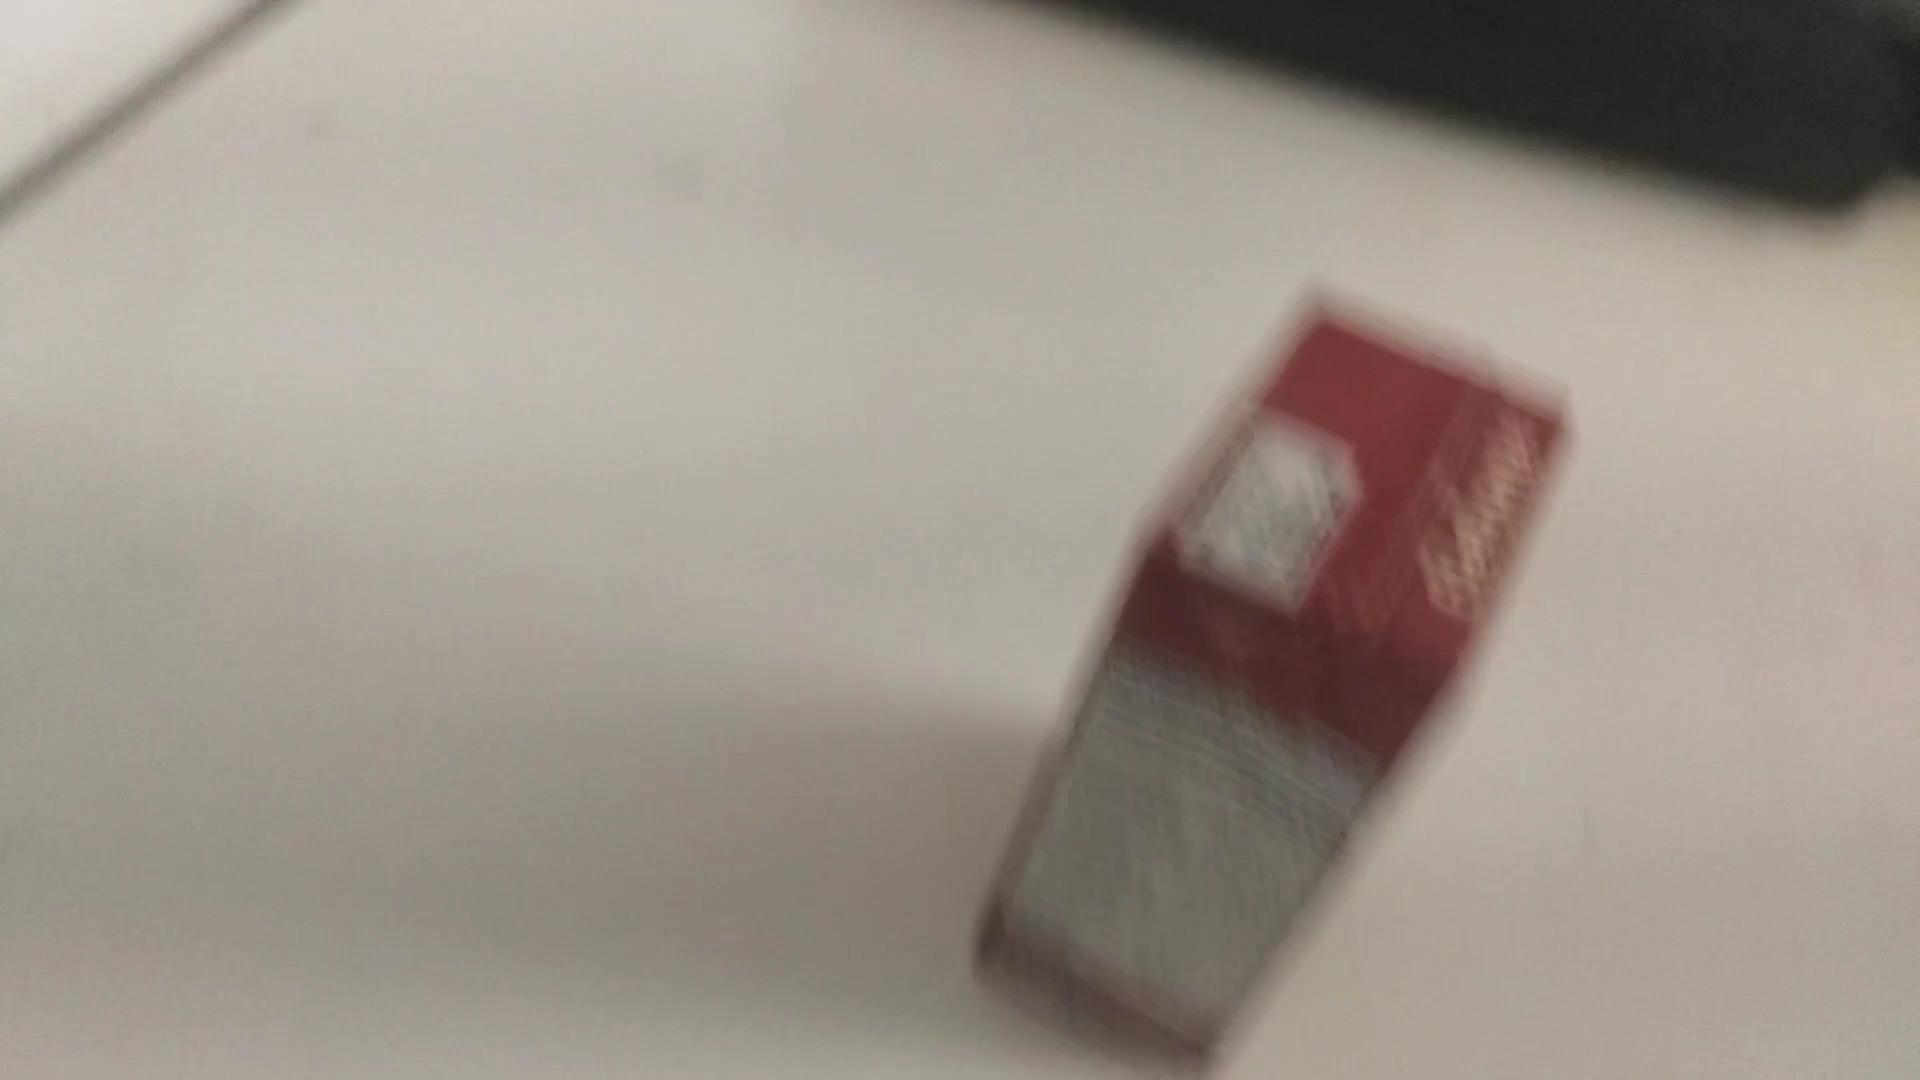tomate: (957, 277, 1577, 1077)
